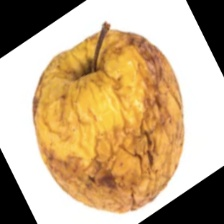apple: (22, 39, 164, 224)
